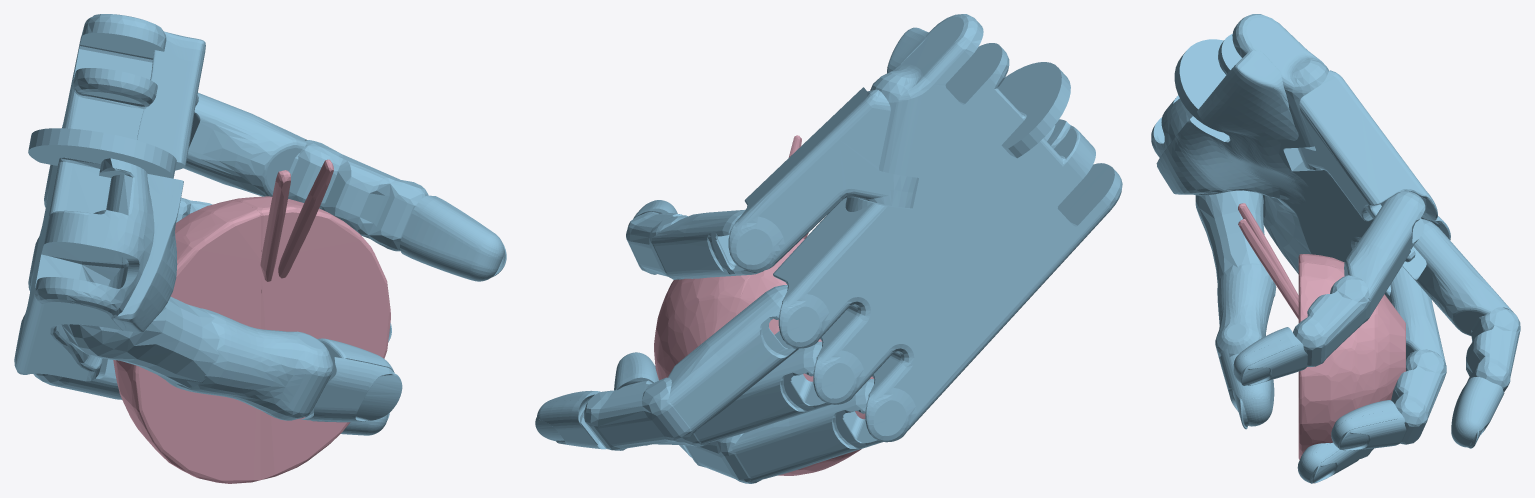
The picture shows the model from 3 angles, left to right: view 1: azimuth 30°, elevation 25°; view 2: azimuth 150°, elevation 25°; view 3: azimuth 270°, elevation 25°; orthographic projection. The views are drawn at different scales.
Parts seen in each view (by area): view 1: hand_isaac_q, world; view 2: hand_isaac_q, world; view 3: hand_isaac_q, world.
Part boxes in pixels (<box>): hand_isaac_q: <box>14,14,506,435</box>; world: <box>113,159,390,483</box>; hand_isaac_q: <box>535,14,1122,483</box>; world: <box>654,135,873,475</box>; hand_isaac_q: <box>1151,14,1520,483</box>; world: <box>1238,203,1405,459</box>.
Size of the model in its own units: 0.1546 by 0.1554 by 0.1389.
